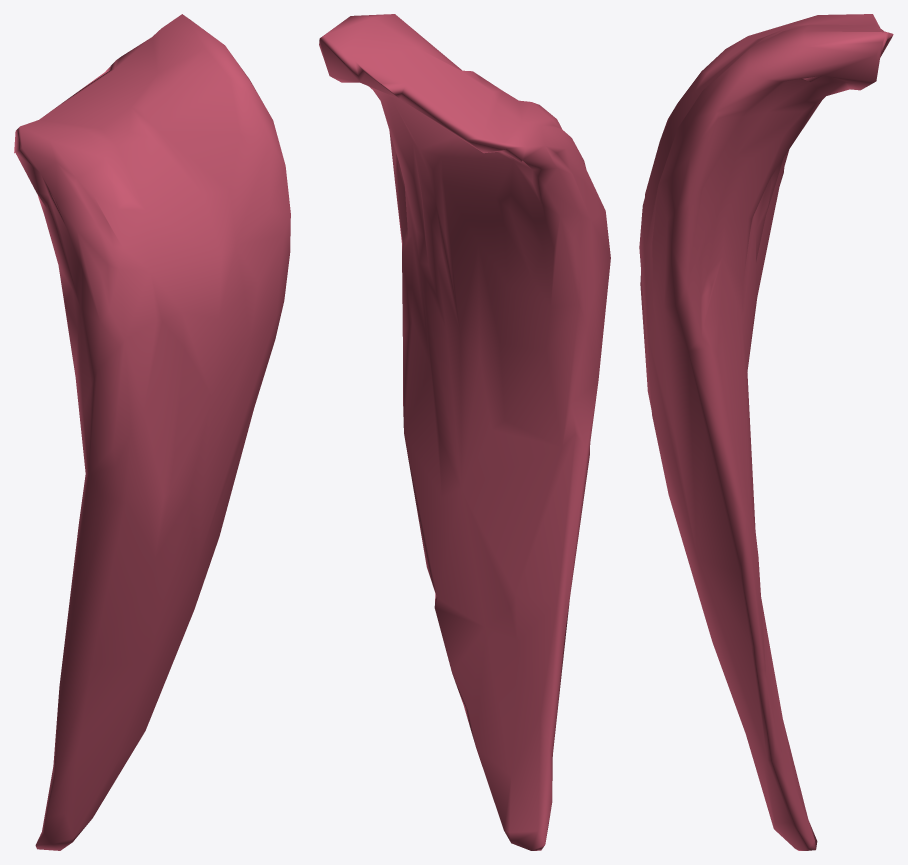
The picture shows the model from 3 angles, left to right: view 1: azimuth 30°, elevation 25°; view 2: azimuth 150°, elevation 25°; view 3: azimuth 270°, elevation 25°; orthographic projection. The views are drawn at different scales.
Parts seen in each view (by area): view 1: 左侧颏舌骨肌; view 2: 左侧颏舌骨肌; view 3: 左侧颏舌骨肌.
Part boxes in pixels (bbox=[...]): 左侧颏舌骨肌: bbox=[14, 14, 290, 850]; 左侧颏舌骨肌: bbox=[319, 14, 610, 850]; 左侧颏舌骨肌: bbox=[639, 14, 893, 850].
Bounding box in the file's own units: 0.0166 × 0.059 × 0.0149.
